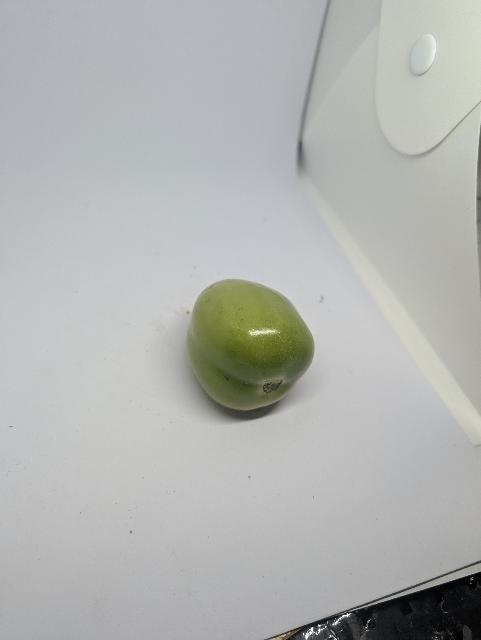green: (162, 260, 340, 424)
